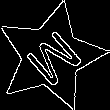M_SE: (16, 22, 86, 91)
